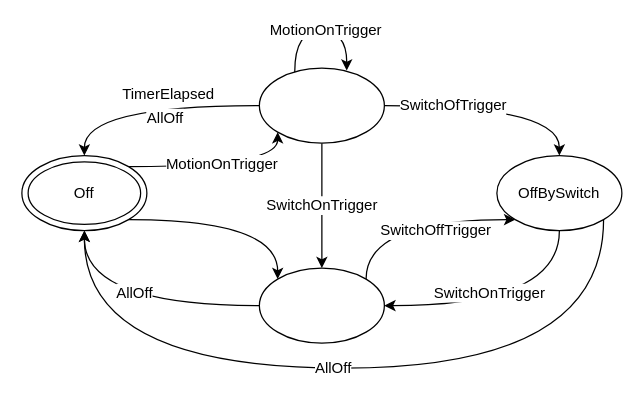
This 644x399 diagram has some shape labels left out. Each missing label, with the centre of its shape:
"OnByMotion" goes at (321,105).
"OnBySwitch" goes at (321,305).
